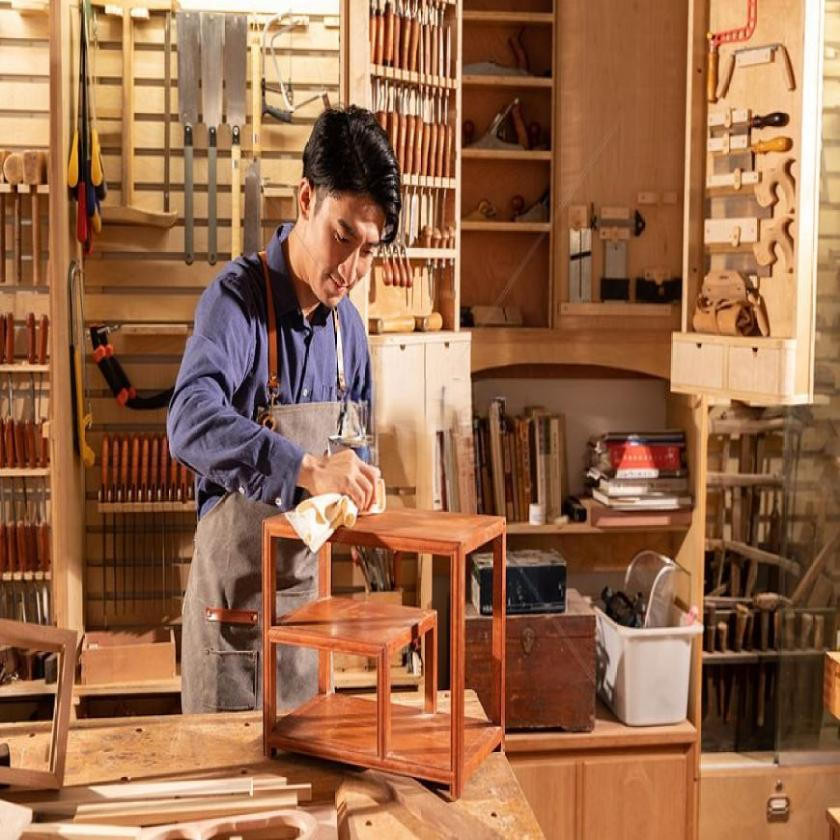Sin_casco: (290, 101, 408, 324)
